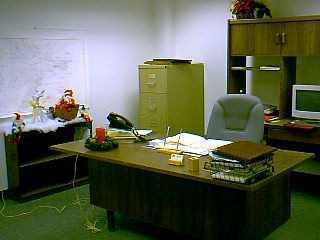Armario: (138, 65, 202, 129)
